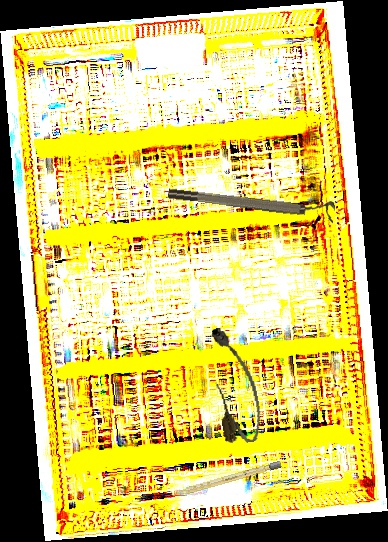Cannula: (204, 323, 266, 447)
Fixation Ring: (167, 178, 336, 225)
Scalpel Handle: (171, 460, 282, 499)
